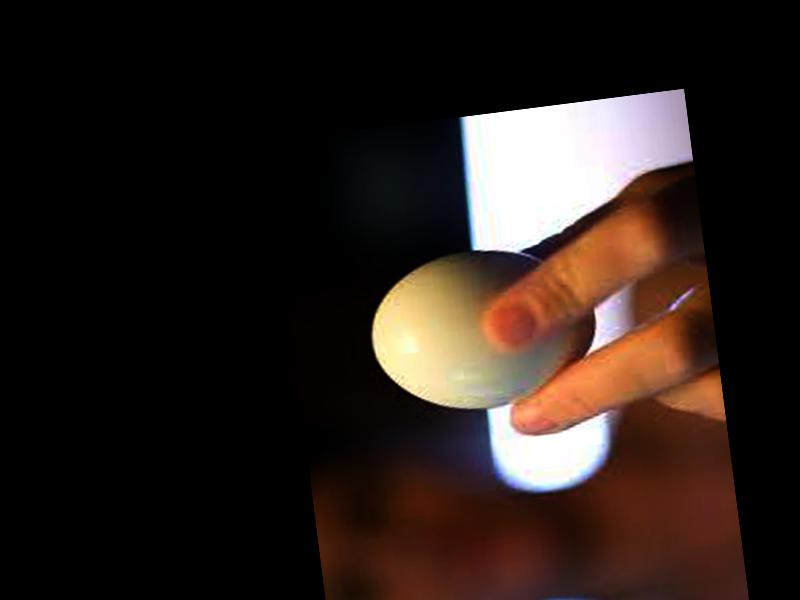Eggs: (362, 239, 605, 425)
